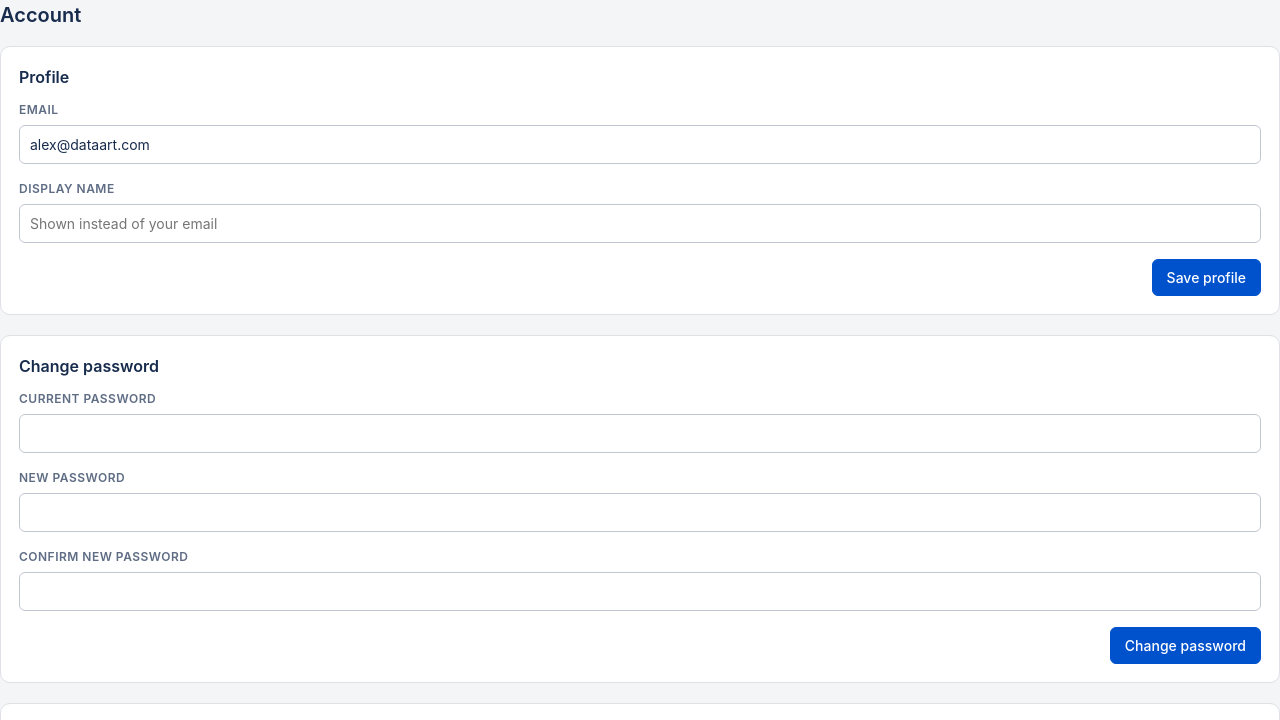
Test: AccountPage — change password › blocks submit when the new passwords do not match
Expected: the field showing "alex@dataart.com" is shown, [19,125,1261,164]
Type "correct horse battery" into the password field labelled "Current password".
click(640, 434); type("correct horse battery")  # box [19,414,1261,453]
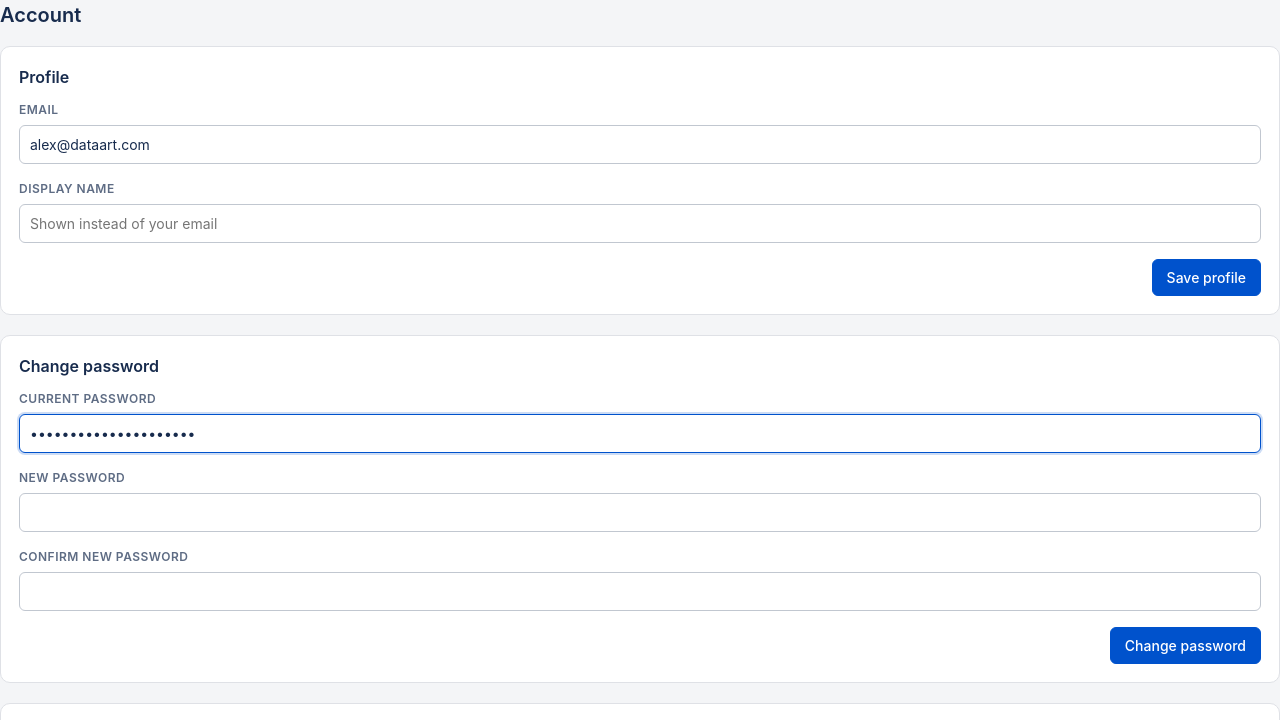
Type "a valid new password" into the password field labelled "New password".
click(640, 512); type("a valid new password")  # box [19,493,1261,532]
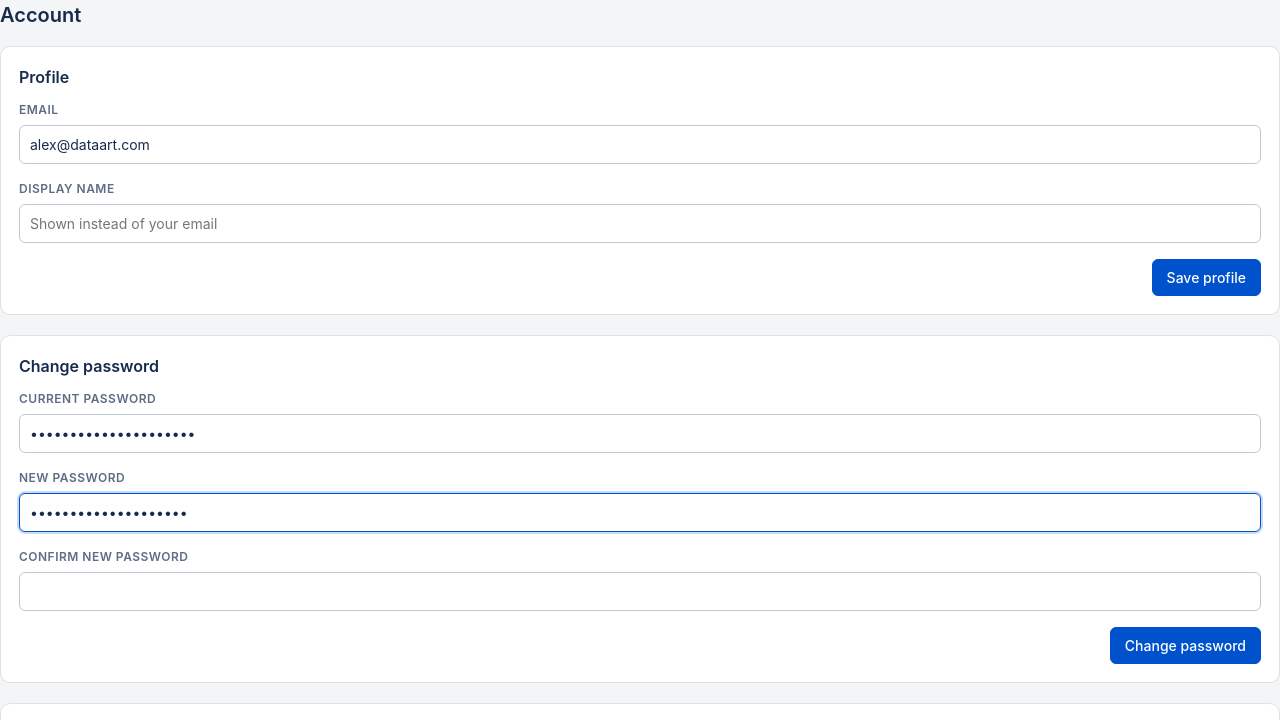
Type "a different password" into the password field labelled "Confirm new password".
click(640, 592); type("a different password")  # box [19,572,1261,611]
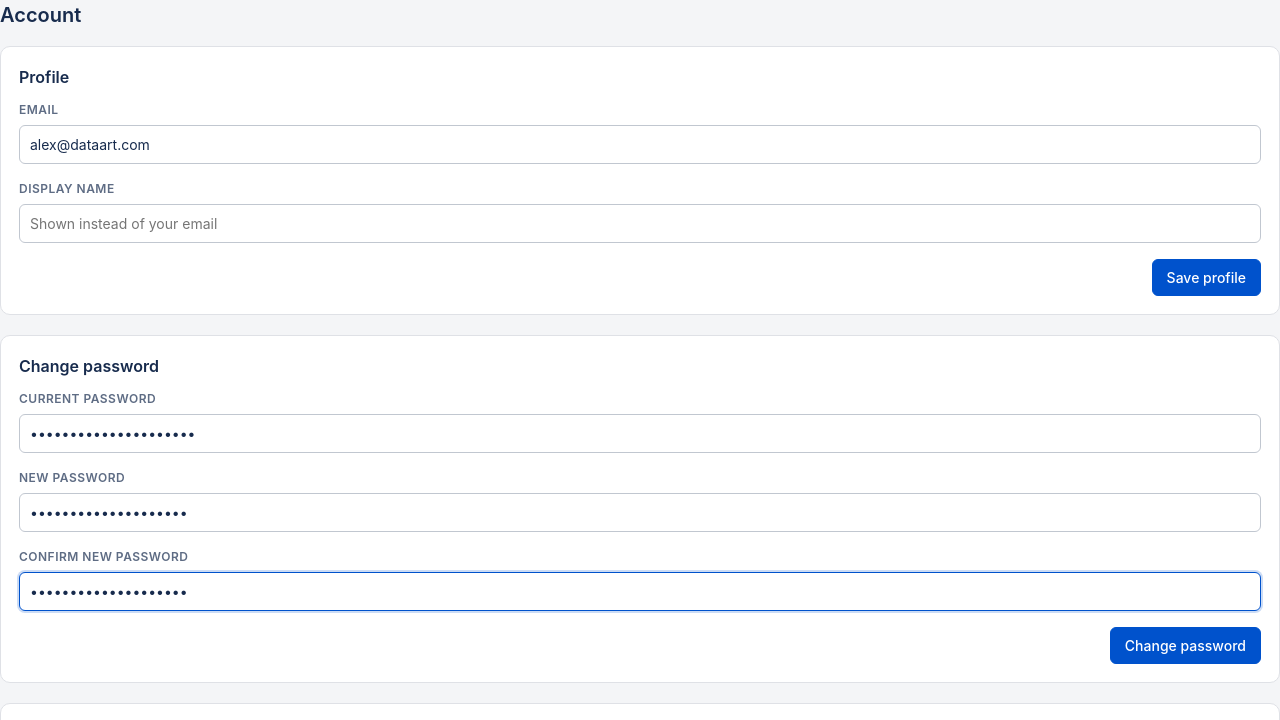
Click the button "Change password".
click(1185, 646)  # box [1110,627,1261,664]
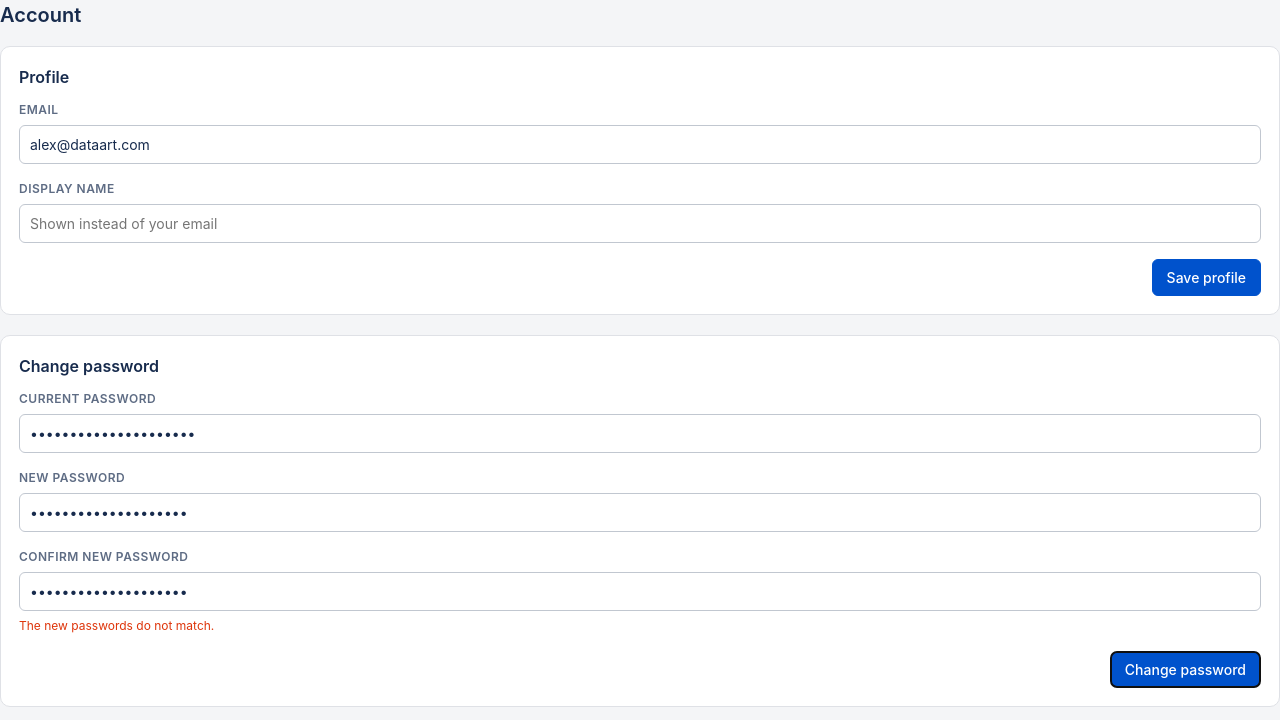
Expected: the text "The new passwords do not match." is shown, [19,618,214,633]
